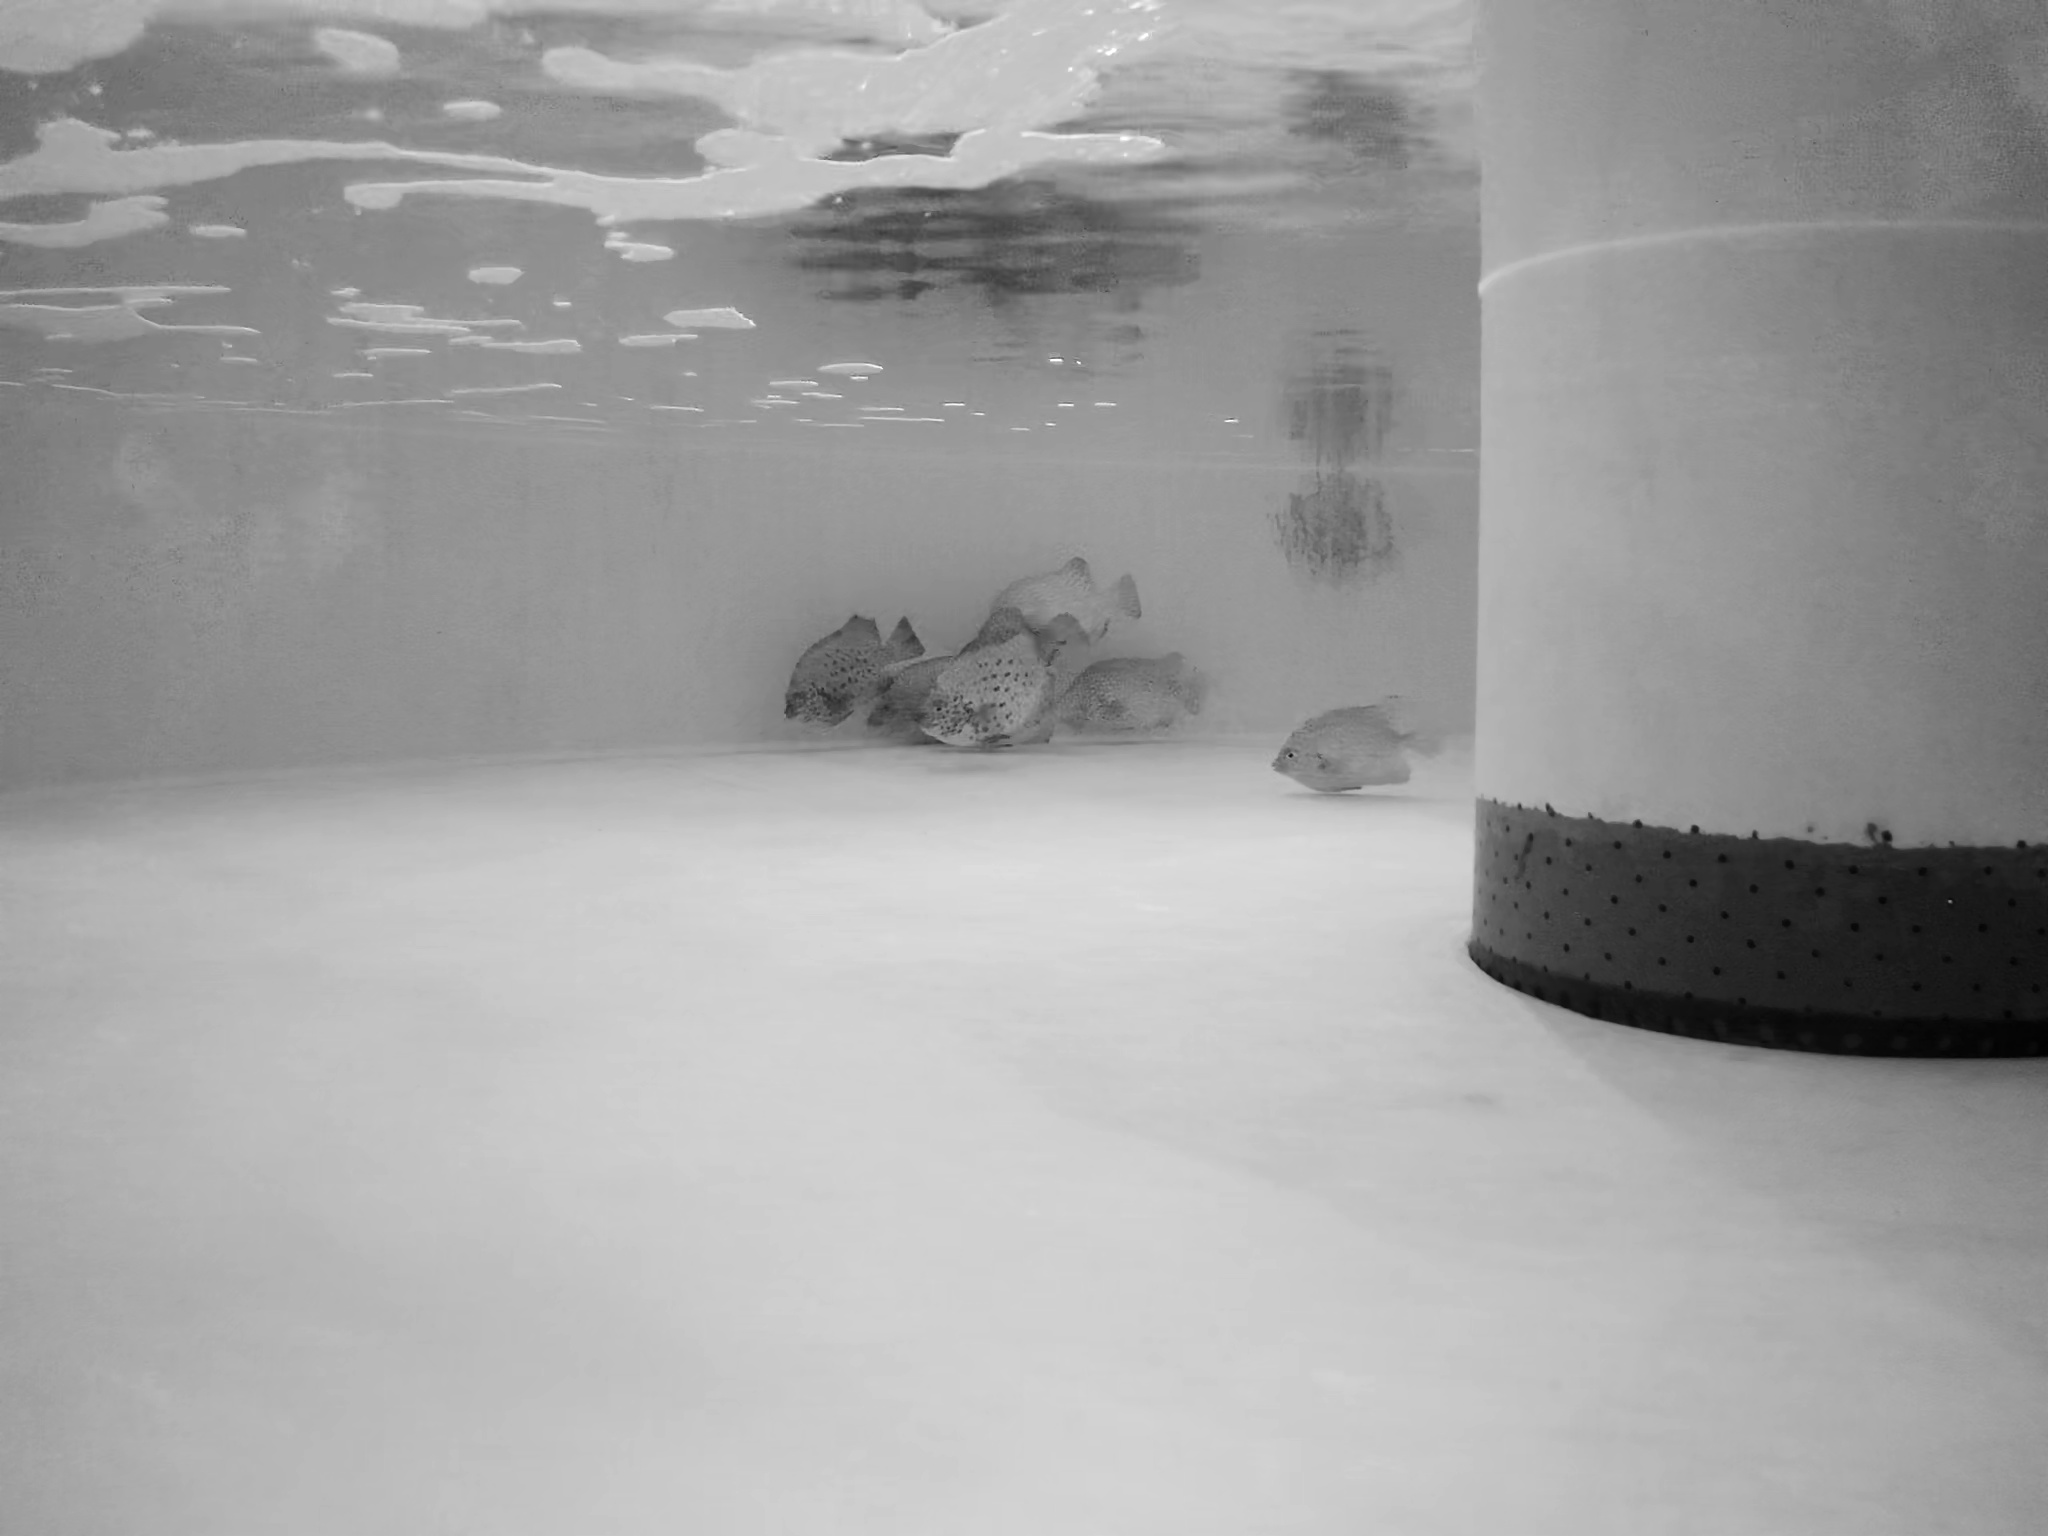fish: (911, 623, 1076, 762), (1259, 684, 1445, 794), (871, 637, 1043, 739), (768, 594, 903, 721), (987, 545, 1151, 647), (1048, 647, 1224, 737)
